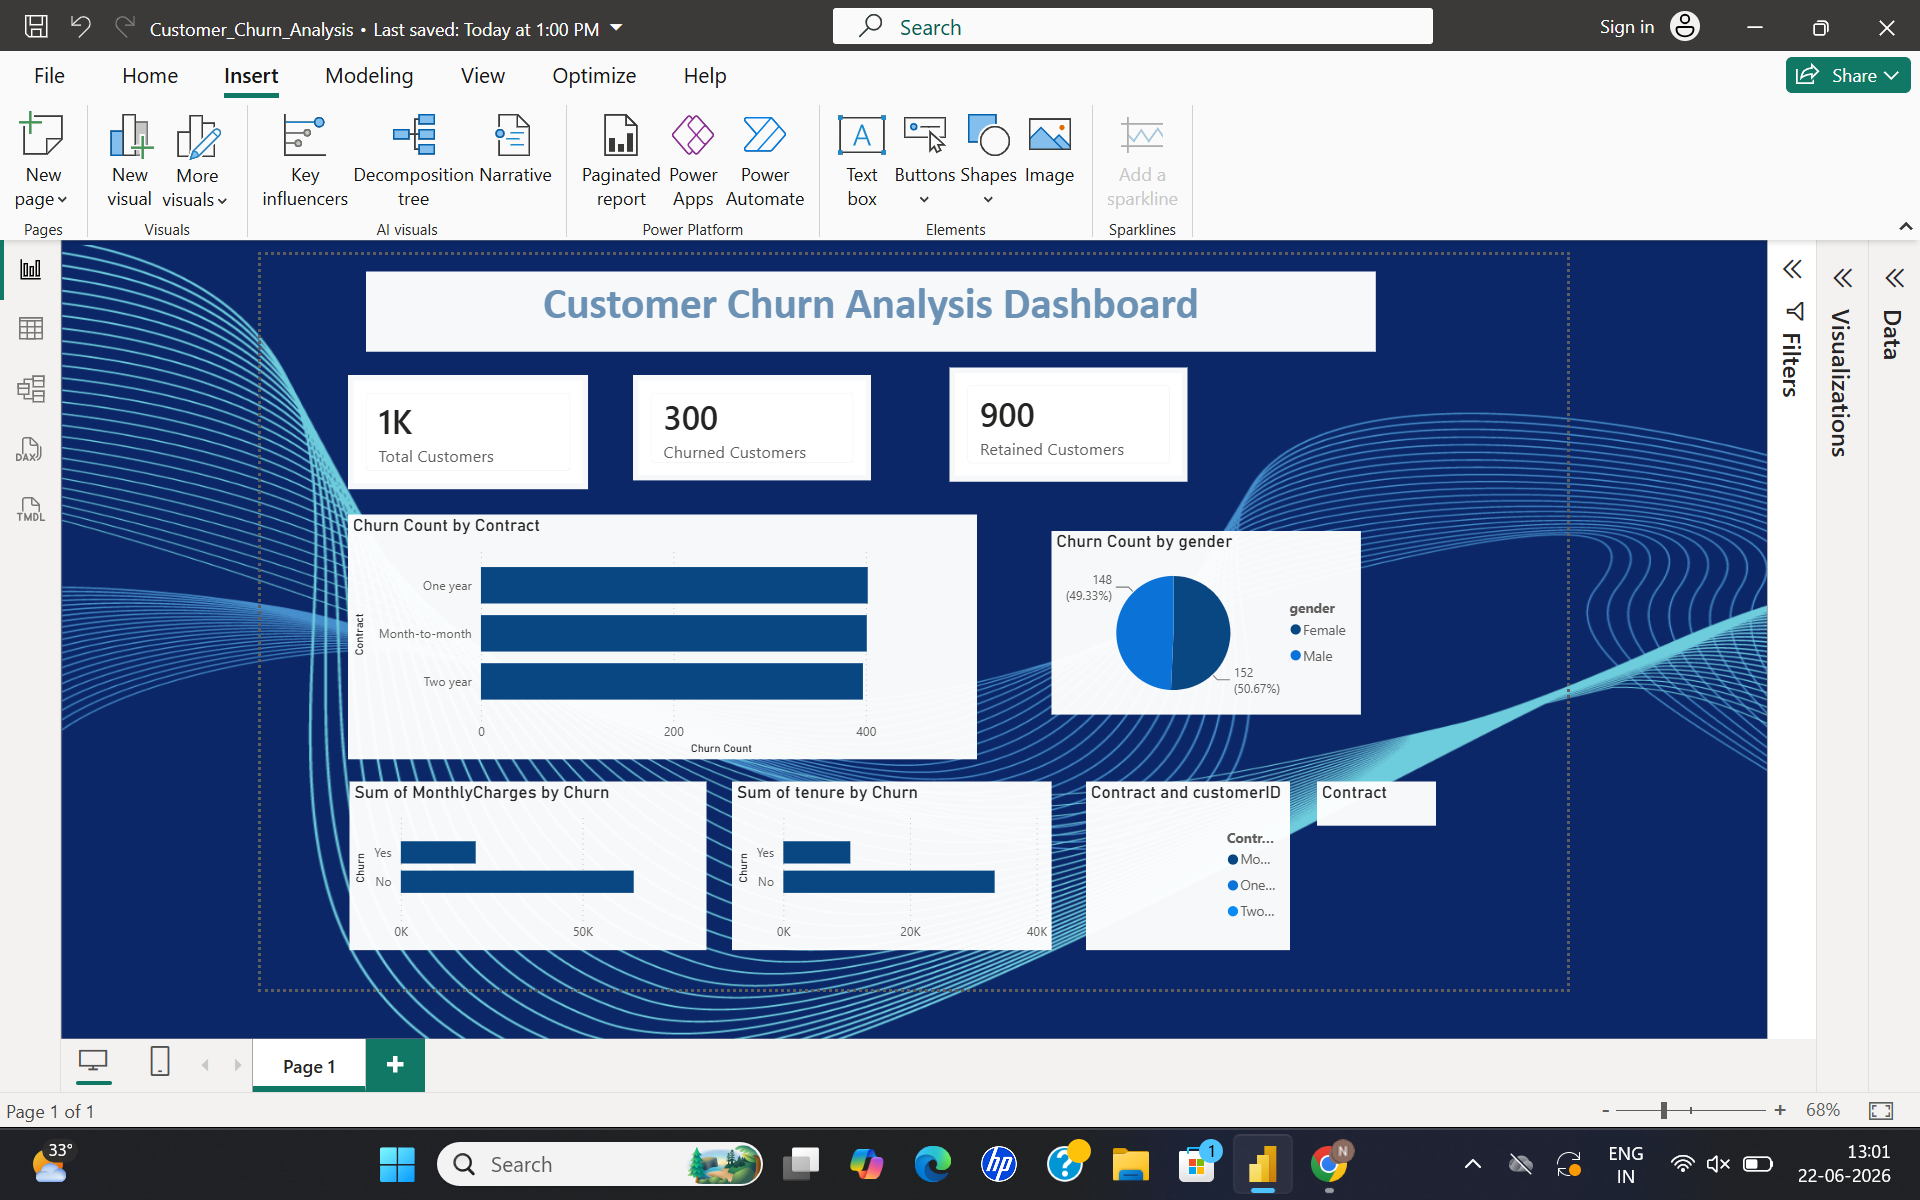

The dashboard page shown, as its layout file describes it:
{"tool":"powerbi","page":{"name":"Page 1","canvas":[1280,720],"ordinal":0},"visuals":[{"type":"cardVisual","fields":{"Data":["Customer_Churn_Dataset_1200Rows.Total Customers","Customer_Churn_Dataset_1200Rows.Total Customers"]},"box":[85,118.3,235,111.7],"z":0},{"type":"cardVisual","fields":{"Data":["Customer_Churn_Dataset_1200Rows.Churned Customers"]},"box":[365,118.3,233.3,103.3],"z":1000},{"type":"cardVisual","fields":{"Data":["Customer_Churn_Dataset_1200Rows.Retained Customers"]},"box":[675,110,233.3,111.7],"z":2000},{"type":"barChart","fields":{"Category":["Customer_Churn_Dataset_1200Rows.Contract"],"Y":["Customer_Churn_Dataset_1200Rows.Churn Count"]},"box":[85,255,616.7,240],"z":3000},{"type":"pieChart","fields":{"Category":["Customer_Churn_Dataset_1200Rows.gender","Customer_Churn_Dataset_1200Rows.Churn"],"Y":["Customer_Churn_Dataset_1200Rows.Churn Count"]},"box":[775,270,303.3,180],"z":4000},{"type":"clusteredBarChart","fields":{"Category":["Customer_Churn_Dataset_1200Rows.Churn"],"Y":["Sum(Customer_Churn_Dataset_1200Rows.MonthlyCharges)"]},"box":[86.7,516.7,350,165],"z":5000},{"type":"clusteredBarChart","fields":{"Category":["Customer_Churn_Dataset_1200Rows.Churn"],"Y":["Sum(Customer_Churn_Dataset_1200Rows.tenure)"]},"box":[461.7,516.7,313.3,165],"z":6000},{"type":"pieChart","fields":{"Category":["Customer_Churn_Dataset_1200Rows.Contract"],"Series":["Customer_Churn_Dataset_1200Rows.customerID"]},"box":[808.3,516.7,200,165],"z":7000},{"type":"funnel","fields":{"Category":["Customer_Churn_Dataset_1200Rows.Contract"]},"box":[1035,516.7,116.7,43.3],"z":8000},{"type":"textbox","box":[103.3,16.7,990,78.3],"z":9000}]}

Visuals, with their boxes on the page's 1280x720 design canvas (x1, y1, x2, y2). These are canvas units, not pixel positions in the 1920x1200 screenshot, which may show the page scaled, cropped or inside an application window:
cardVisual - Customer_Churn_Dataset_1200Rows.Total Customers x Customer_Churn_Dataset_1200Rows.Total Customers: Rect(85, 118, 320, 230)
cardVisual - Customer_Churn_Dataset_1200Rows.Churned Customers: Rect(365, 118, 598, 222)
cardVisual - Customer_Churn_Dataset_1200Rows.Retained Customers: Rect(675, 110, 908, 222)
barChart - Customer_Churn_Dataset_1200Rows.Contract x Customer_Churn_Dataset_1200Rows.Churn Count: Rect(85, 255, 702, 495)
pieChart - Customer_Churn_Dataset_1200Rows.gender x Customer_Churn_Dataset_1200Rows.Churn: Rect(775, 270, 1078, 450)
clusteredBarChart - Customer_Churn_Dataset_1200Rows.Churn x Sum(Customer_Churn_Dataset_1200Rows.MonthlyCharges): Rect(87, 517, 437, 682)
clusteredBarChart - Customer_Churn_Dataset_1200Rows.Churn x Sum(Customer_Churn_Dataset_1200Rows.tenure): Rect(462, 517, 775, 682)
pieChart - Customer_Churn_Dataset_1200Rows.Contract x Customer_Churn_Dataset_1200Rows.customerID: Rect(808, 517, 1008, 682)
funnel - Customer_Churn_Dataset_1200Rows.Contract: Rect(1035, 517, 1152, 560)
textbox: Rect(103, 17, 1093, 95)
